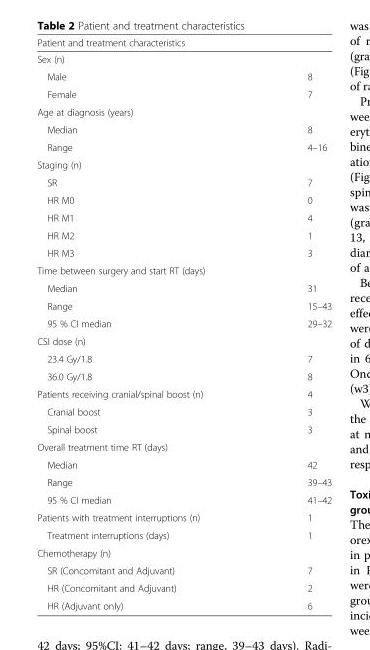table: (36, 36, 331, 611)
table column: (36, 36, 255, 611), (255, 36, 331, 611)
table column header: (36, 36, 331, 50)
table projected row header: (36, 102, 331, 120), (36, 155, 331, 173), (36, 261, 331, 279), (36, 437, 331, 455), (36, 543, 331, 561), (36, 50, 331, 67), (36, 332, 331, 349)
table row: (36, 67, 331, 85), (36, 102, 331, 120), (36, 120, 331, 138), (36, 155, 331, 173), (36, 190, 331, 208), (36, 208, 331, 226), (36, 243, 331, 261), (36, 261, 331, 279), (36, 296, 331, 314), (36, 314, 331, 332), (36, 349, 331, 367), (36, 384, 331, 402), (36, 402, 331, 420), (36, 437, 331, 455), (36, 455, 331, 473), (36, 490, 331, 508), (36, 508, 331, 526), (36, 543, 331, 561), (36, 578, 331, 596), (36, 50, 331, 67), (36, 85, 331, 102), (36, 138, 331, 155), (36, 173, 331, 190), (36, 226, 331, 243), (36, 279, 331, 296), (36, 332, 331, 349), (36, 367, 331, 384), (36, 420, 331, 437), (36, 473, 331, 490), (36, 526, 331, 543), (36, 561, 331, 578), (36, 596, 331, 611), (36, 36, 331, 50)
